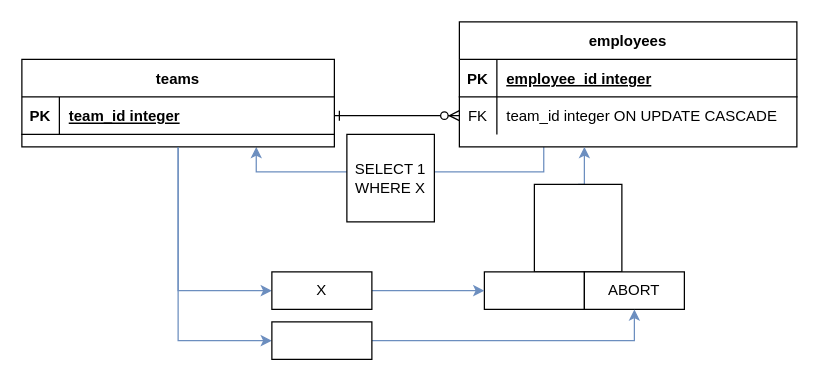
Image size: 819x381. Some labels were removed from this diagram. The shapes that lost their labels are listed below. From the top down, each one's centre as x and y in pixels, then its label:
the point at 577,227: INSERT X
the point at 533,290: COMMIT
the point at 321,340: NULL
